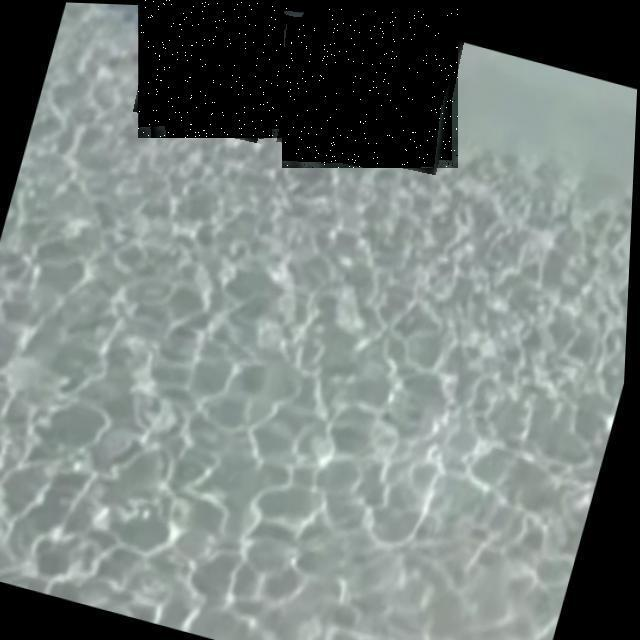swimming: (282, 8, 458, 168), (138, 0, 284, 138)
